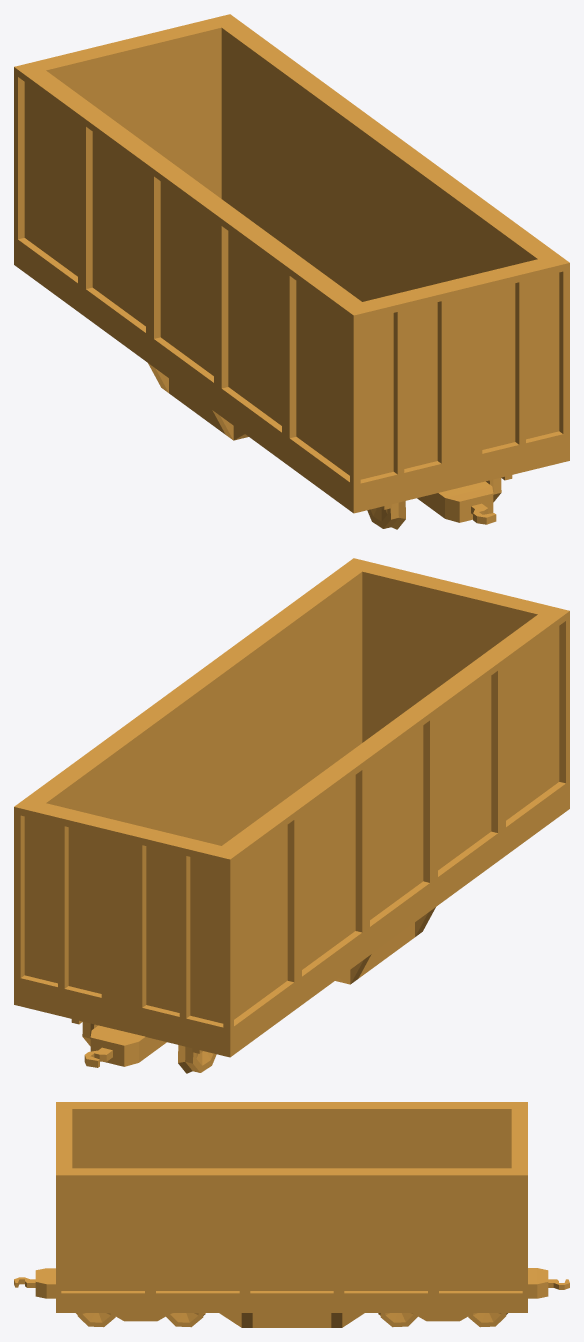
The model's file is train-wagon-hopper.glb.
3 renders of one model, top to bottom at view 1: azimuth 30°, elevation 25°; view 2: azimuth 150°, elevation 25°; view 3: azimuth 270°, elevation 25°, orthographic. The views are drawn at different scales.
Visible parts, largest first — view 1: train-wagon-hopper-base, train-wagon-hopper-wheel_F1; view 2: train-wagon-hopper-base, train-wagon-hopper-wheel_B2; view 3: train-wagon-hopper-base, train-wagon-hopper-wheel-frame_F, train-wagon-hopper-wheel-frame_B, train-wagon-hopper-wheel_F2, train-wagon-hopper-wheel_B1, train-wagon-hopper-wheel_F1, train-wagon-hopper-wheel_B2.
Part boxes in pixels (<box>): train-wagon-hopper-base: <box>14,14,569,524</box>; train-wagon-hopper-wheel_F1: <box>367,477,501,529</box>; train-wagon-hopper-base: <box>14,558,569,1067</box>; train-wagon-hopper-wheel_B2: <box>82,1021,216,1073</box>; train-wagon-hopper-base: <box>14,1102,569,1327</box>; train-wagon-hopper-wheel-frame_F: <box>110,1313,171,1321</box>; train-wagon-hopper-wheel-frame_B: <box>412,1313,473,1321</box>; train-wagon-hopper-wheel_F2: <box>166,1313,205,1327</box>; train-wagon-hopper-wheel_B1: <box>378,1313,417,1327</box>; train-wagon-hopper-wheel_F1: <box>76,1313,115,1327</box>; train-wagon-hopper-wheel_B2: <box>468,1313,507,1327</box>.
Bounding box in the file's own units: 3.2 × 3.5 × 10.26.
